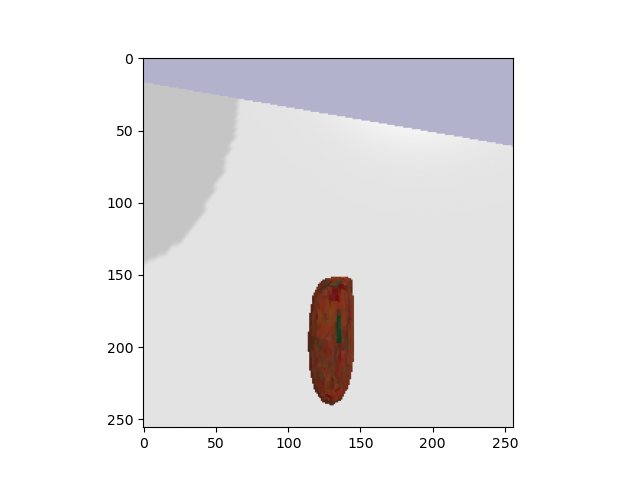v249b387_106: (296, 271, 363, 410)
